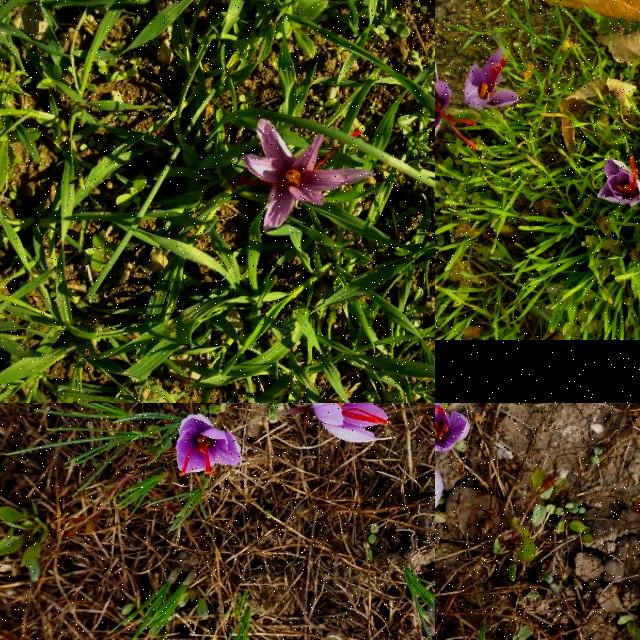flower: (244, 119, 376, 233), (435, 37, 478, 150), (175, 414, 242, 476), (464, 46, 520, 110), (310, 403, 392, 444), (598, 157, 640, 205), (435, 403, 472, 453)
